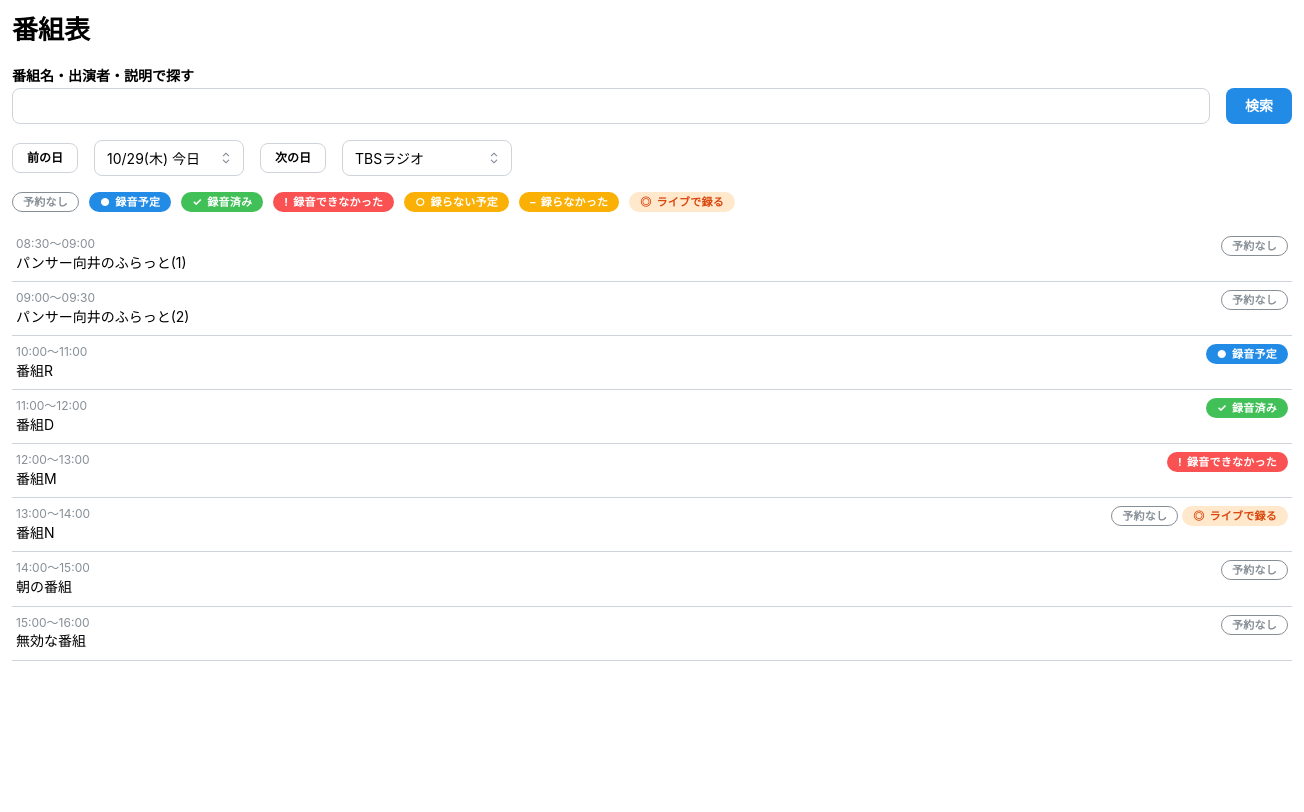
Test: GuidePage の番組表 › 放送日を切り替えると、その日の番組表を読み直す
This screenshot has width=1304, height=812.
Expected: the element with test id "guide-list" is shown, [12,228,1292,661]
Click the button "前の日". click: (45, 158)
box: [12,143,78,173]
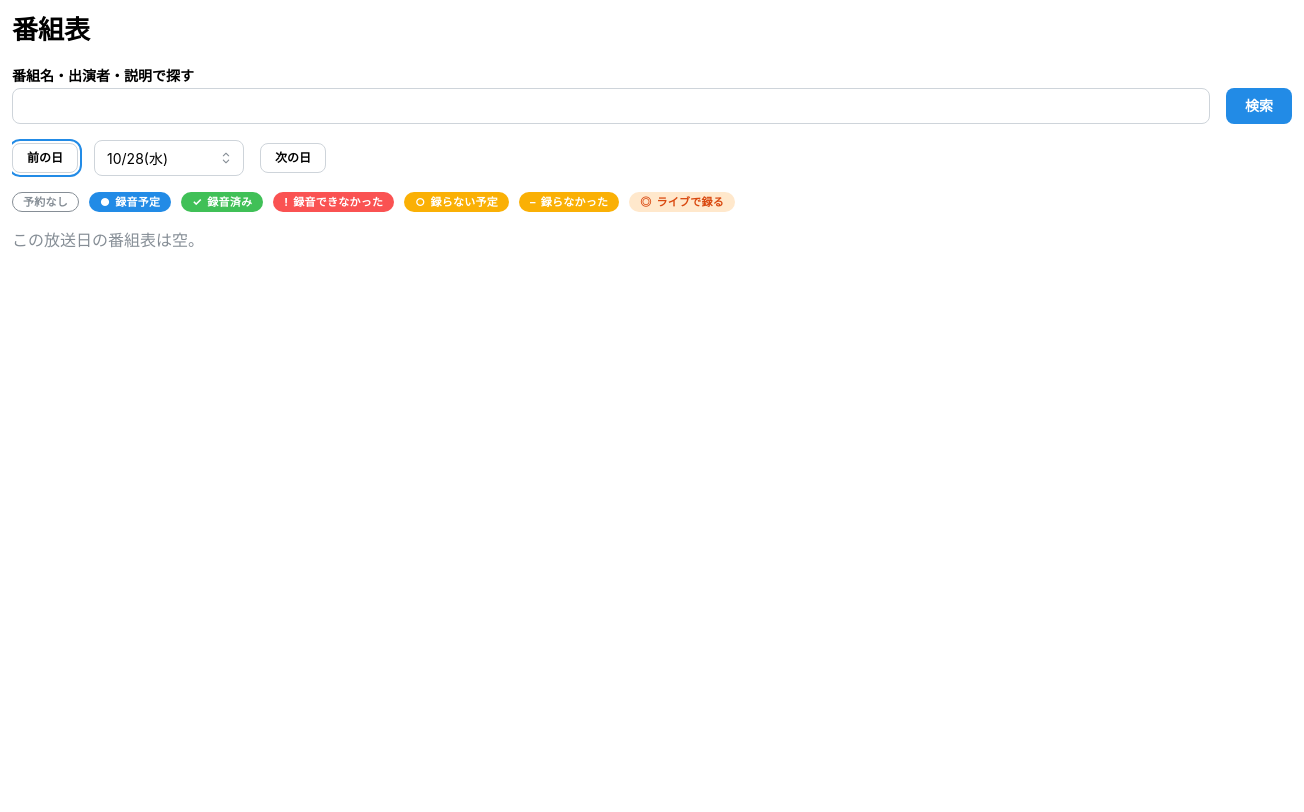
Now the text "この放送日の番組表は空。" is shown, box [12,230,204,250]
